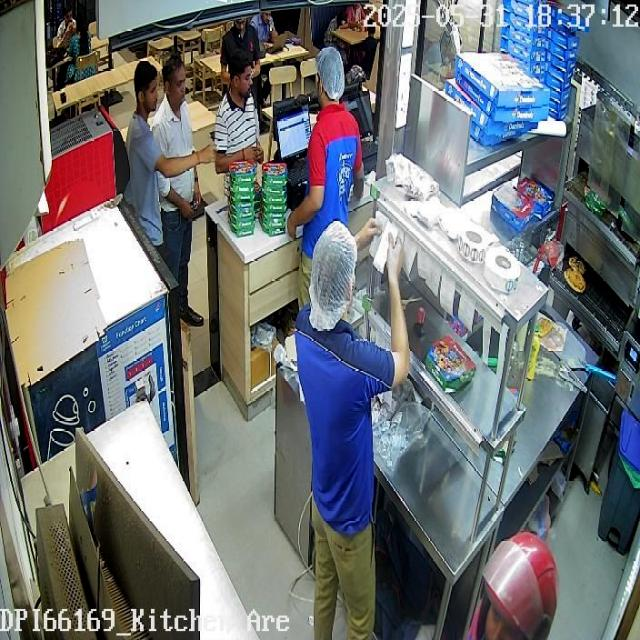helmet: (471, 532, 557, 639)
